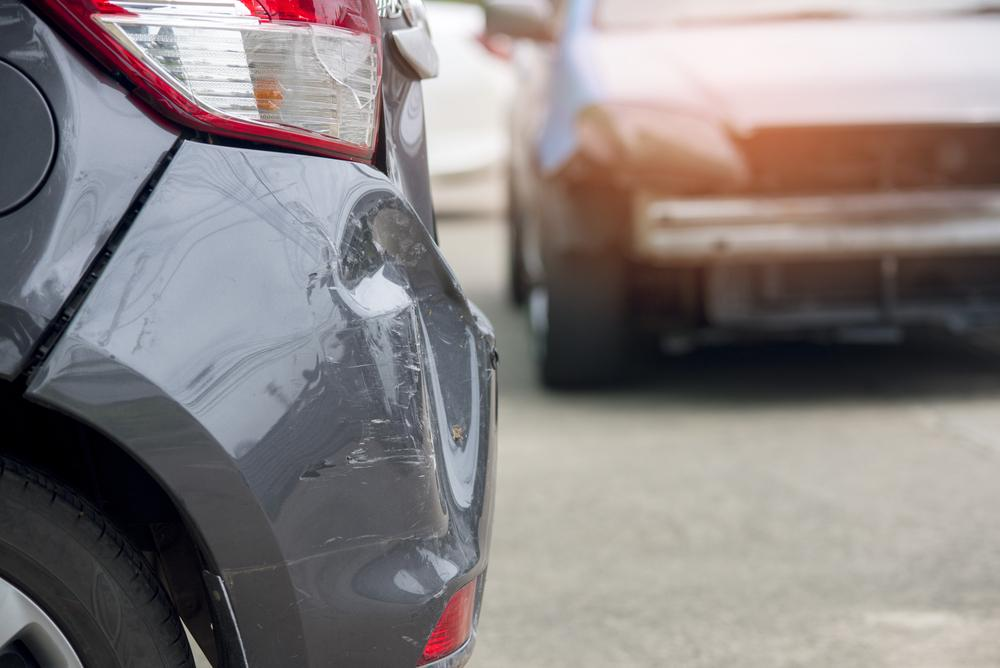dent: (341, 188, 481, 508)
lamp broken: (57, 0, 381, 156)
scratch: (285, 303, 438, 491)
